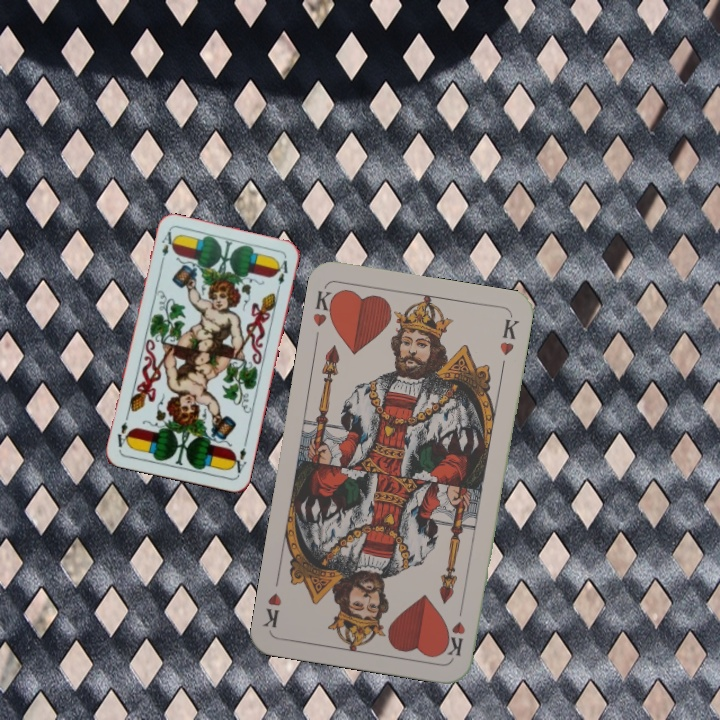EA: (228, 437, 250, 477), (156, 227, 176, 267)
HK: (442, 600, 468, 659), (309, 286, 340, 329)
